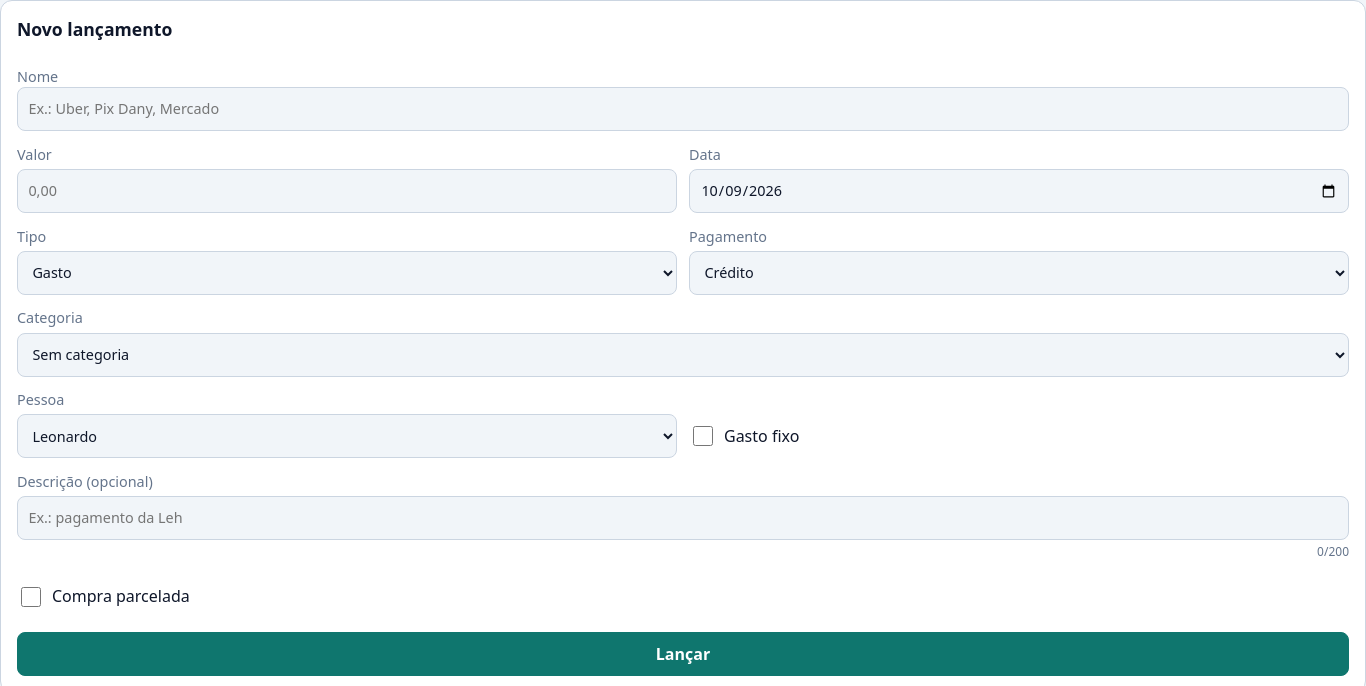
Test: autopreenchimento › categoria duvidosa fica em branco e oferece as alternativas
Type "abb" into the field labelled "Nome" at (683, 109), box [17,87,1349,131]
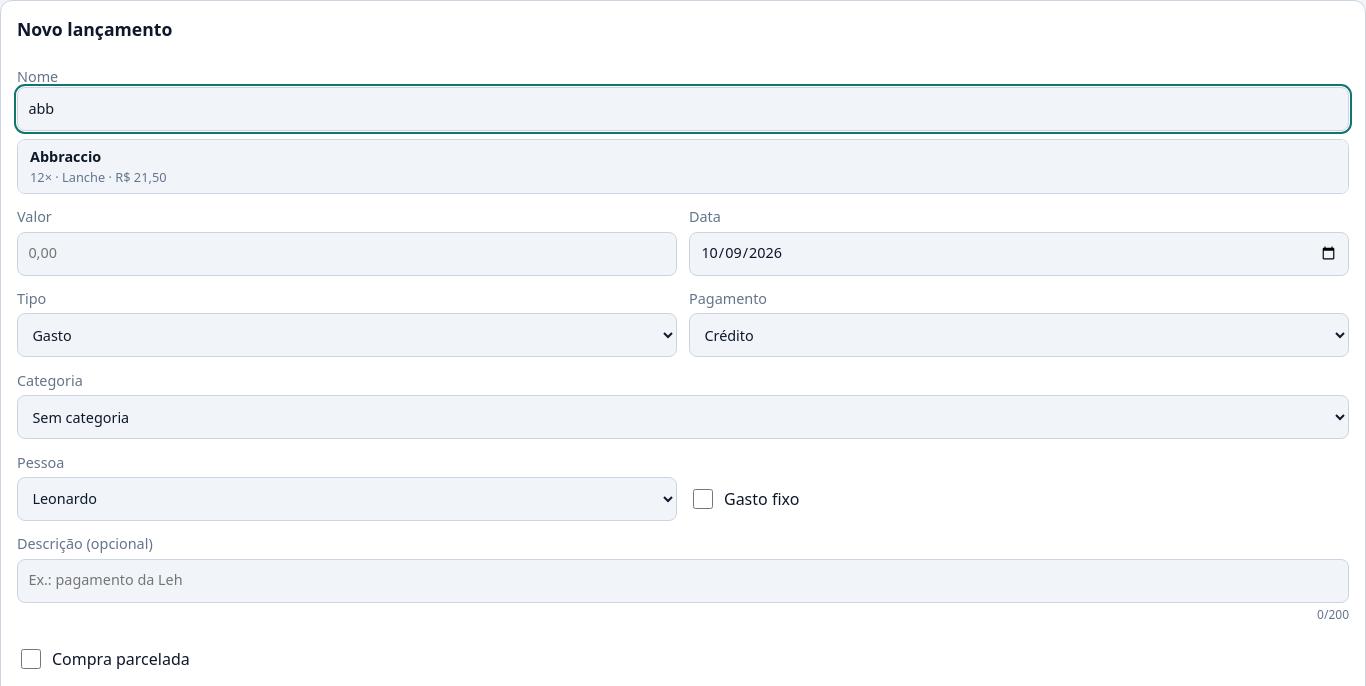
Click the button "Abbraccio 12× · Lanche · R$ 21,50" at (66, 156), box [18,140,1348,193]
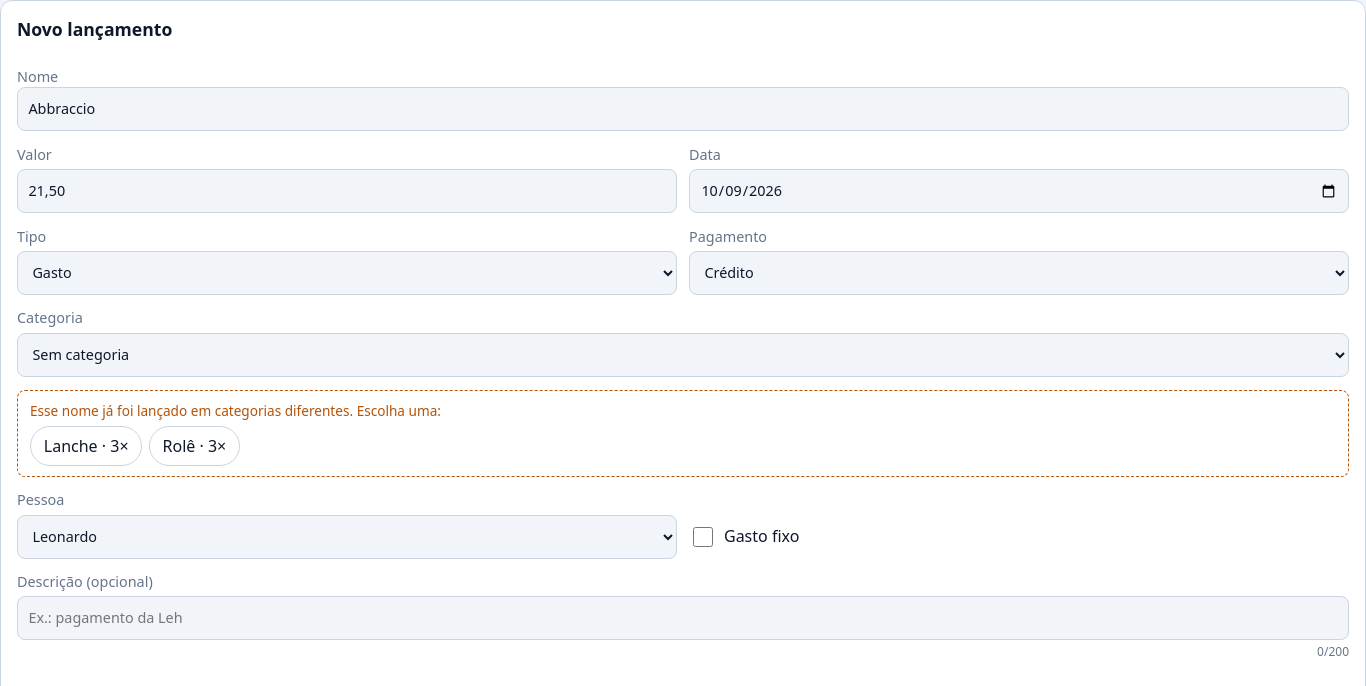
Expected: the dropdown labelled "Categoria" shows "Sem categoria", [17,333,1349,377]
Result: the text "categorias diferentes" is shown at [30,401,441,420]
Click the button "Rolê · 3×" at (194, 446), box [149,426,240,466]
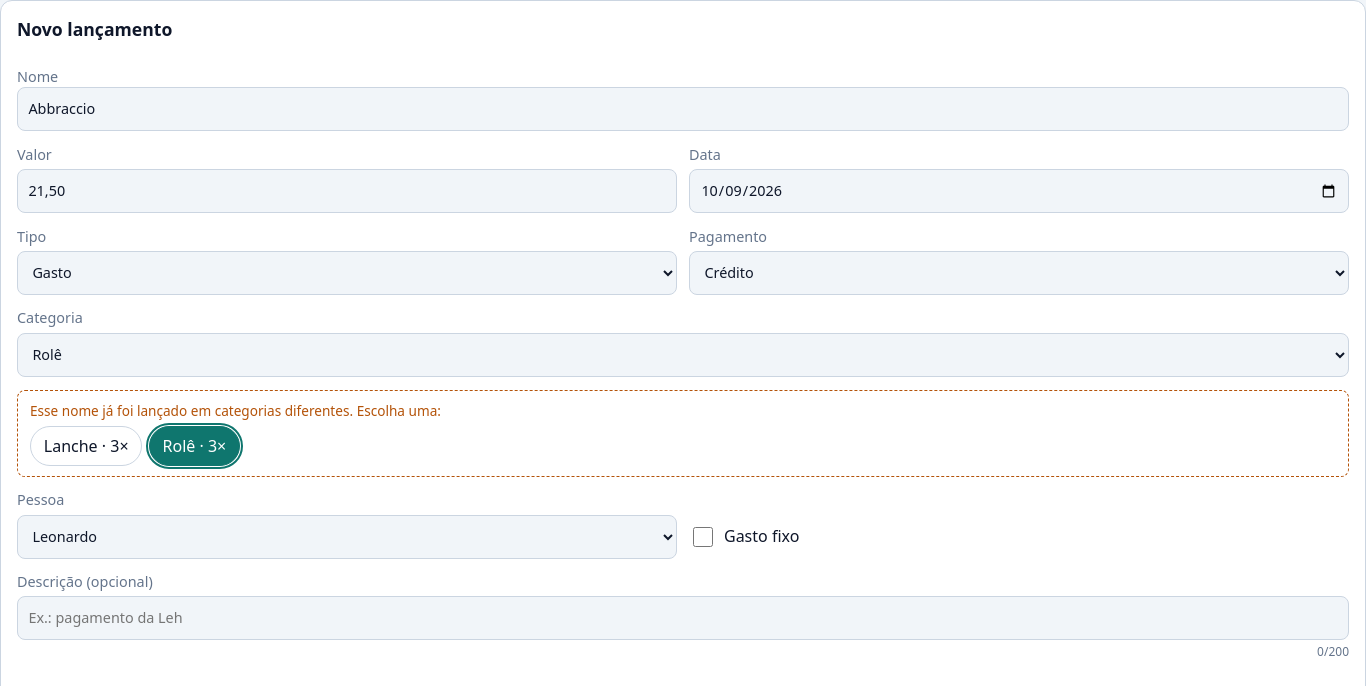
Result: the dropdown labelled "Categoria" shows "Rolê" at [17,333,1349,377]
